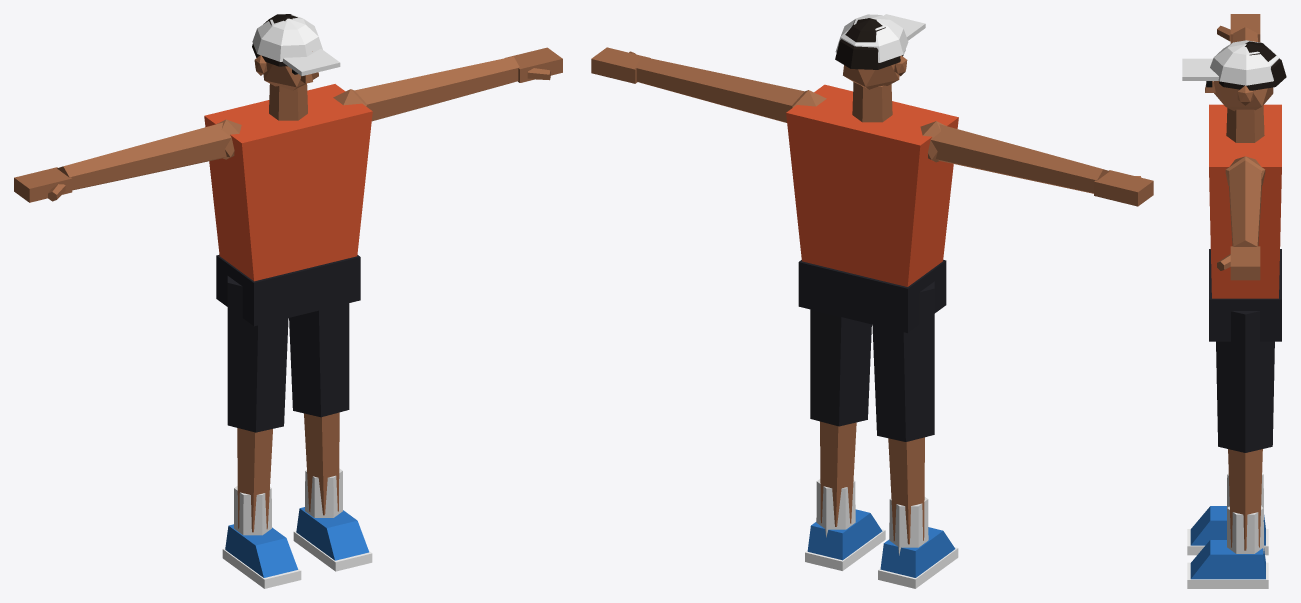
The model's file is Civ_Jogger.glb.
The picture shows the model from 3 angles, left to right: view 1: azimuth 30°, elevation 25°; view 2: azimuth 150°, elevation 25°; view 3: azimuth 270°, elevation 25°; orthographic projection. The views are drawn at different scales.
Parts seen in each view (by area): view 1: Civ_Jogger; view 2: Civ_Jogger; view 3: Civ_Jogger.
Part boxes in pixels (x1,y1,x2,y2): Civ_Jogger: (14,14,562,588); Civ_Jogger: (591,14,1153,588); Civ_Jogger: (1182,14,1286,588).
Size of the model in its own units: 1.8 by 1.73 by 0.314.
